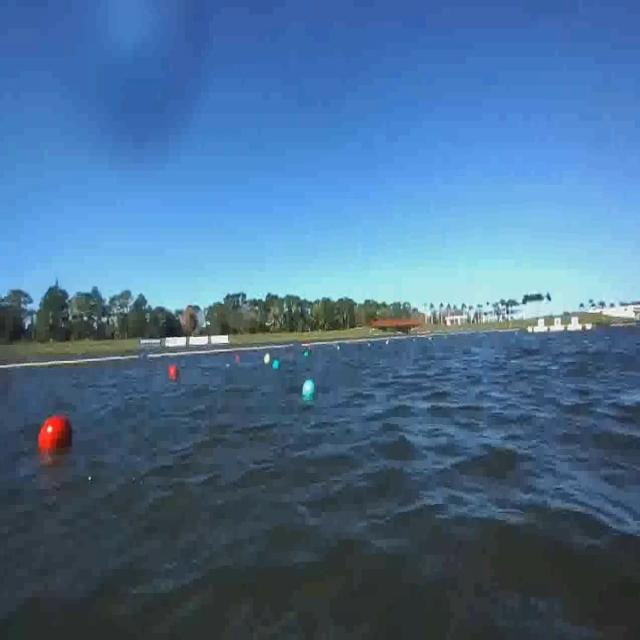green-buoy: (301, 376, 314, 397), (274, 358, 281, 370)
red-buoy: (40, 417, 74, 456), (170, 363, 178, 378)
